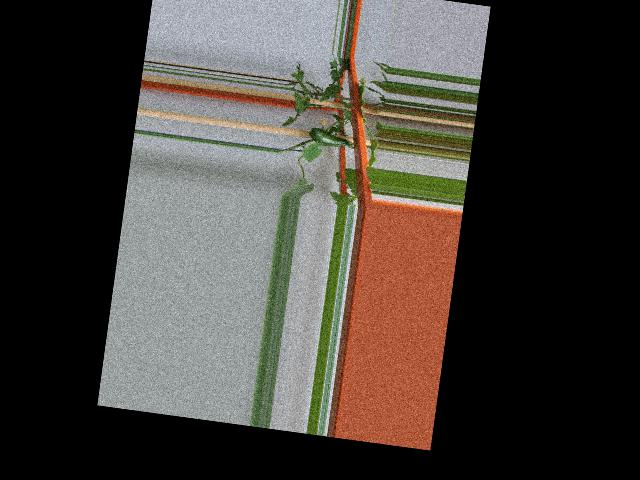cucumber: (304, 126, 348, 148)
